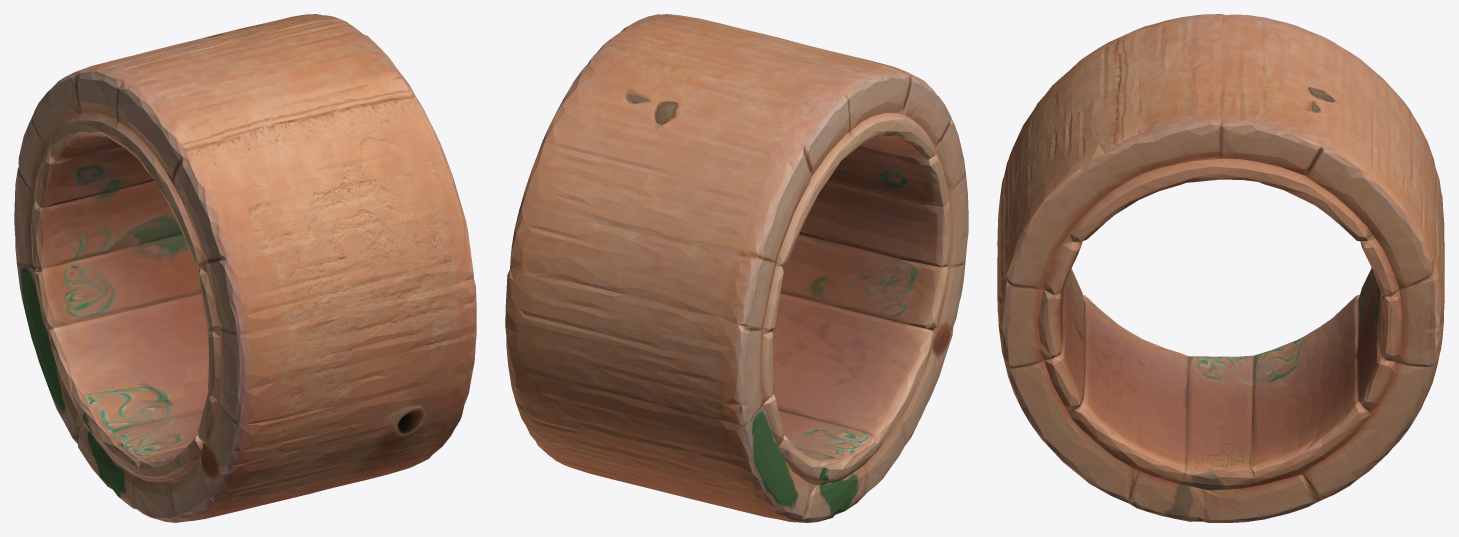
The model's file is Generate_a_medium_hig_0510160622_texture.fbx.
3 renders of one model, left to right at view 1: azimuth 30°, elevation 25°; view 2: azimuth 150°, elevation 25°; view 3: azimuth 270°, elevation 25°, orthographic. The views are drawn at different scales.
Visible parts, largest first — view 1: temp; view 2: temp; view 3: temp.
Part boxes in pixels (x1=…): temp: x1=14, y1=14, x2=476, y2=522; temp: x1=505, y1=14, x2=968, y2=522; temp: x1=997, y1=14, x2=1444, y2=522.
Size of the model in its own units: 123 by 200 by 200.
1 material, 1 textured.
